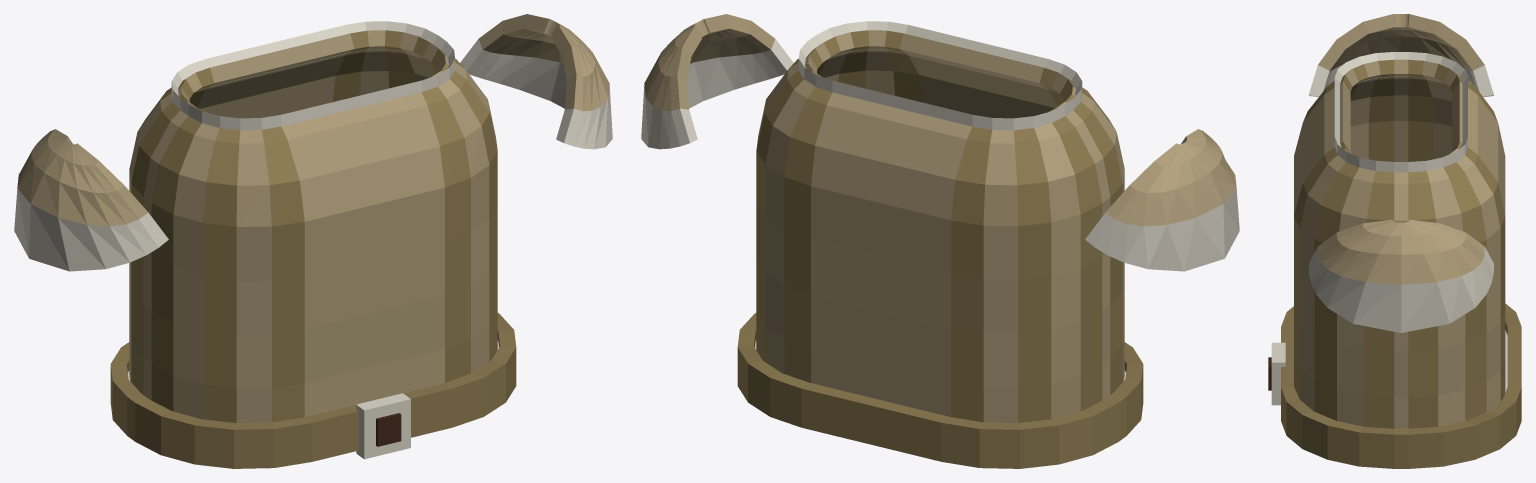
File: armor_body_padded.glb
The picture shows the model from 3 angles, left to right: view 1: azimuth 30°, elevation 25°; view 2: azimuth 150°, elevation 25°; view 3: azimuth 270°, elevation 25°; orthographic projection. The views are drawn at different scales.
Visible parts, largest first — view 1: armor_body_padded, armor_body_padded_belt, armor_body_padded_pad_R, armor_body_padded_pad_L; view 2: armor_body_padded, armor_body_padded_belt, armor_body_padded_pad_R, armor_body_padded_pad_L; view 3: armor_body_padded, armor_body_padded_pad_L, armor_body_padded_belt, armor_body_padded_pad_R.
Part boxes in pixels (x1,y1,x2,y2): armor_body_padded: [128, 21, 499, 422]; armor_body_padded_belt: [110, 313, 516, 468]; armor_body_padded_pad_R: [14, 129, 168, 271]; armor_body_padded_pad_L: [460, 14, 612, 149]; armor_body_padded: [754, 21, 1125, 422]; armor_body_padded_belt: [737, 313, 1143, 468]; armor_body_padded_pad_R: [1085, 129, 1239, 271]; armor_body_padded_pad_L: [641, 14, 793, 149]; armor_body_padded: [1294, 52, 1507, 428]; armor_body_padded_pad_L: [1308, 219, 1493, 332]; armor_body_padded_belt: [1268, 303, 1521, 468]; armor_body_padded_pad_R: [1308, 14, 1493, 96].
Size of the model in its own units: 1.22 by 0.6743 by 0.5369.
